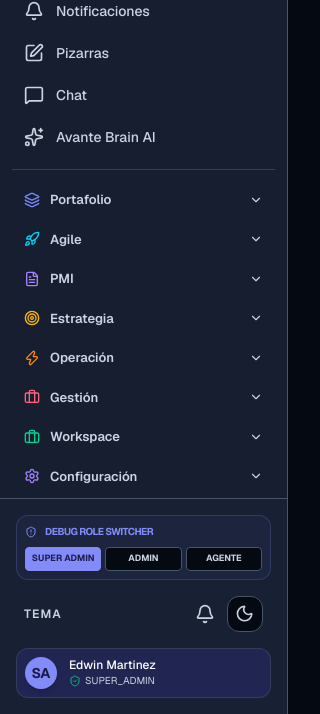
Test: Sidebar · filtrado por rol › ADMIN ve Configuración pero no items SUPER_ADMIN-only (Tokens API, Backup)
(page scrolled)
Click the button "ADMIN". click: (143,559)
box: [105,547,182,570]
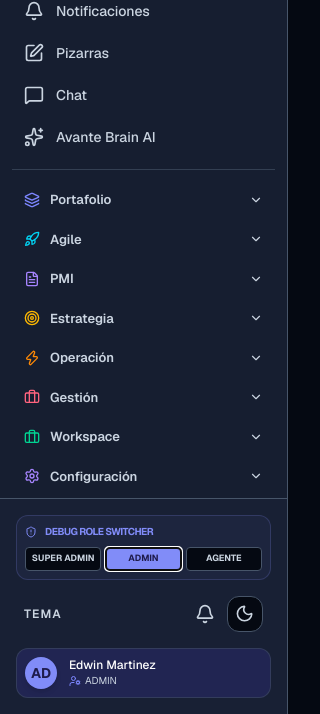
Note: Lo abrimos para que sus items entren al DOM accesible.
Click the button "Configuración". click: (94,476)
box: [12,458,275,494]
(page scrolled)
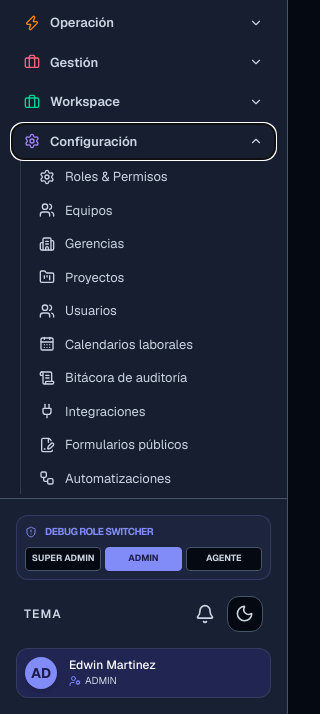
Expected: the link "Roles & Permisos" is shown, [39,168,168,185]
Expected: the link "Integraciones" is shown, [39,402,146,420]
